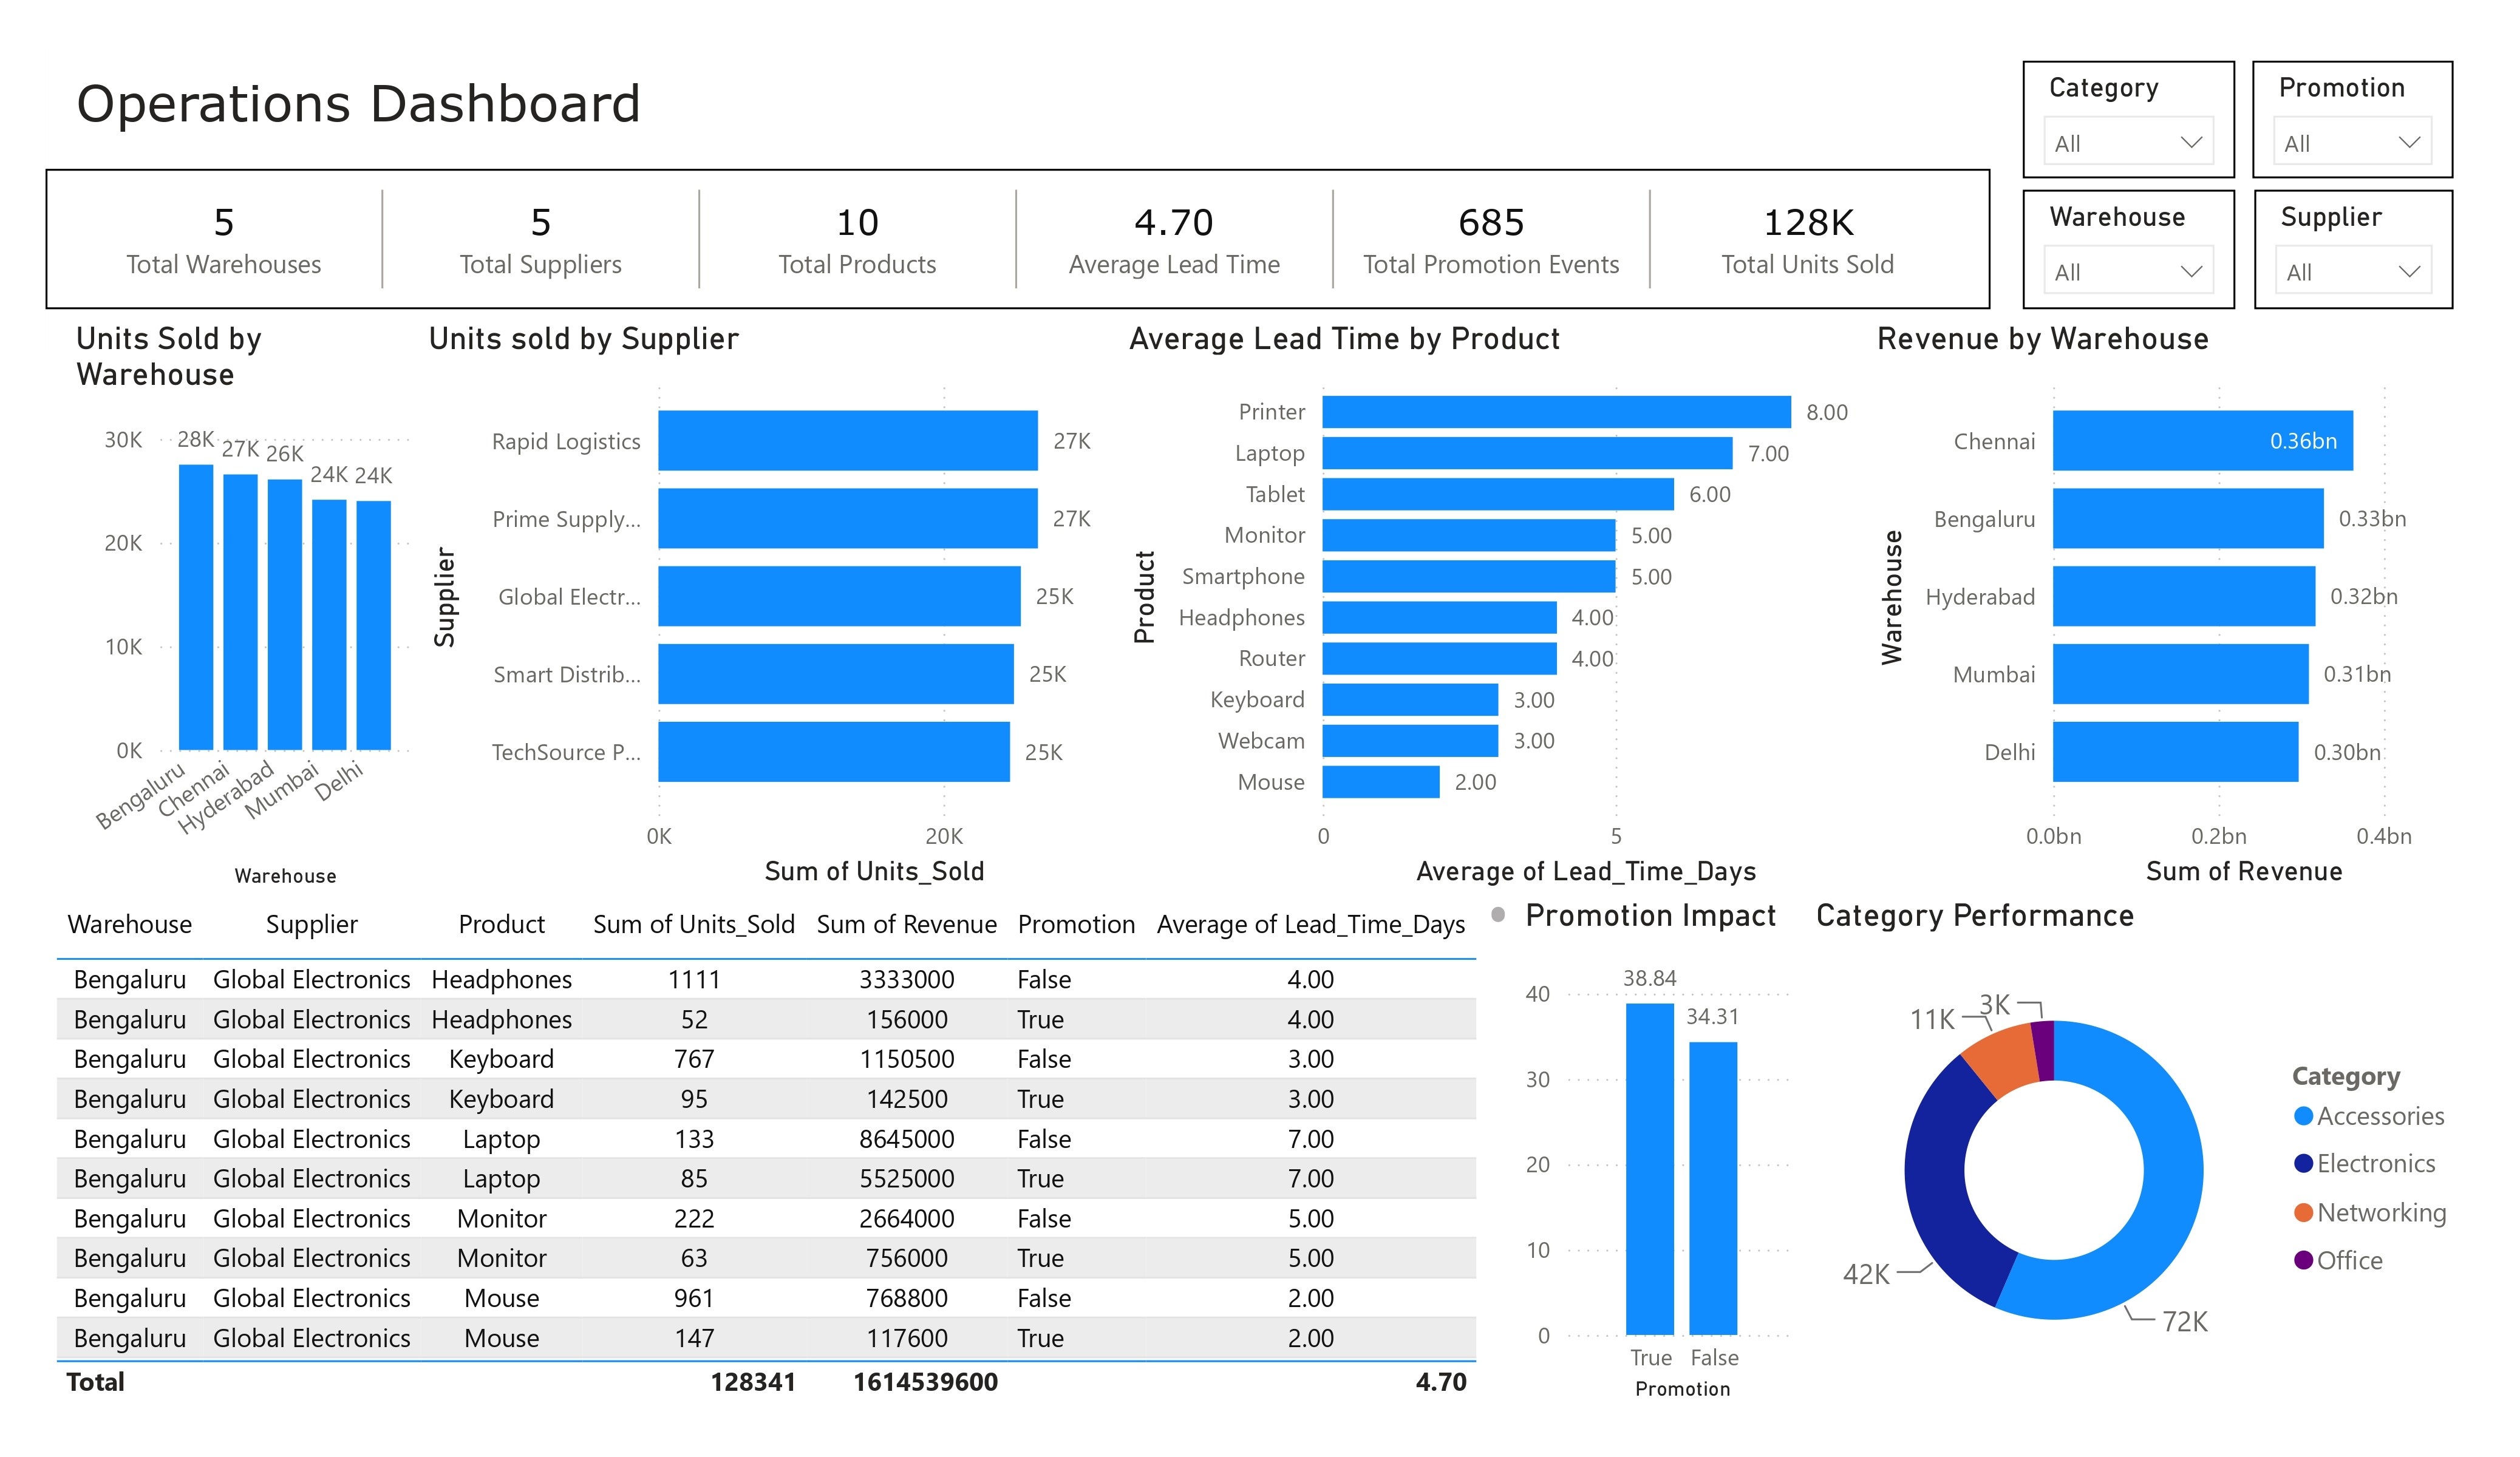

This screenshot's page, from the dashboard's own definition file:
{"tool":"powerbi","page":{"name":"Operations Dashboard","canvas":[1280,720],"ordinal":3},"visuals":[{"type":"cardVisual","fields":{"Data":["Count(inventory_dataset.Warehouse)","Count(inventory_dataset.Supplier)","Count(inventory_dataset.Product)","Avg(inventory_dataset.Lead_Time_Days)","inventory_dataset.Promotion Events","Sum(inventory_dataset.Units_Sold)"]},"box":[0,65.1,1025.1,74.2],"z":0},{"type":"clusteredColumnChart","title":"Units Sold by Warehouse","fields":{"Category":["inventory_dataset.Warehouse"],"Y":["Sum(inventory_dataset.Units_Sold)"]},"box":[10.6,143.8,186.2,304.4],"z":1000},{"type":"clusteredBarChart","title":"Revenue by Warehouse","fields":{"Category":["inventory_dataset.Warehouse"],"Y":["Sum(inventory_dataset.Revenue)"]},"box":[960,143.8,319.5,304.4],"z":2000},{"type":"barChart","title":"Units sold by Supplier","fields":{"Category":["inventory_dataset.Supplier"],"Y":["Sum(inventory_dataset.Units_Sold)"]},"box":[196.8,143.8,369.5,304.4],"z":3000},{"type":"clusteredColumnChart","title":"Promotion Impact","fields":{"Y":["Avg(inventory_dataset.Units_Sold)"],"Category":["inventory_dataset.Promotion"]},"box":[775.3,448.2,152.9,271],"z":4000},{"type":"barChart","title":"Average Lead Time by Product","fields":{"Category":["inventory_dataset.Product"],"Y":["Avg(inventory_dataset.Lead_Time_Days)"]},"box":[566.3,143.8,393.7,304.4],"z":5000},{"type":"tableEx","fields":{"Values":["inventory_dataset.Warehouse","inventory_dataset.Supplier","inventory_dataset.Product","Sum(inventory_dataset.Units_Sold)","Sum(inventory_dataset.Revenue)","inventory_dataset.Promotion","Avg(inventory_dataset.Lead_Time_Days)"]},"box":[0,448.2,775.3,271],"z":6000},{"type":"donutChart","title":"Category Performance","fields":{"Category":["inventory_dataset.Category"],"Y":["Sum(inventory_dataset.Units_Sold)"]},"box":[928.2,448.2,351.3,271],"z":7000},{"type":"slicer","fields":{"Values":["inventory_dataset.Warehouse"]},"box":[1041.8,75.7,112.1,63.6],"z":8000},{"type":"slicer","fields":{"Values":["inventory_dataset.Supplier"]},"box":[1164.4,75.7,104.5,63.6],"z":9000},{"type":"slicer","fields":{"Values":["inventory_dataset.Category"]},"box":[1041.8,7.6,112.1,62.1],"z":10000},{"type":"slicer","fields":{"Values":["inventory_dataset.Promotion"]},"box":[1162.9,7.6,106,62.1],"z":11000},{"type":"textbox","box":[10.6,7.6,393.7,43.9],"z":12000}]}

Visuals, with their boxes on the page's 1280x720 design canvas (x1, y1, x2, y2). These are canvas units, not pixel positions in the 2520x1457 screenshot, which may show the page scaled, cropped or inside an application window:
cardVisual - Count(inventory_dataset.Warehouse) x Count(inventory_dataset.Supplier): 0/65/1025/139
"Units Sold by Warehouse" clusteredColumnChart: 11/144/197/448
"Revenue by Warehouse" clusteredBarChart: 960/144/1280/448
"Units sold by Supplier" barChart: 197/144/566/448
"Promotion Impact" clusteredColumnChart: 775/448/928/719
"Average Lead Time by Product" barChart: 566/144/960/448
tableEx - inventory_dataset.Warehouse x inventory_dataset.Supplier: 0/448/775/719
"Category Performance" donutChart: 928/448/1280/719
slicer - inventory_dataset.Warehouse: 1042/76/1154/139
slicer - inventory_dataset.Supplier: 1164/76/1269/139
slicer - inventory_dataset.Category: 1042/8/1154/70
slicer - inventory_dataset.Promotion: 1163/8/1269/70
textbox: 11/8/404/52
